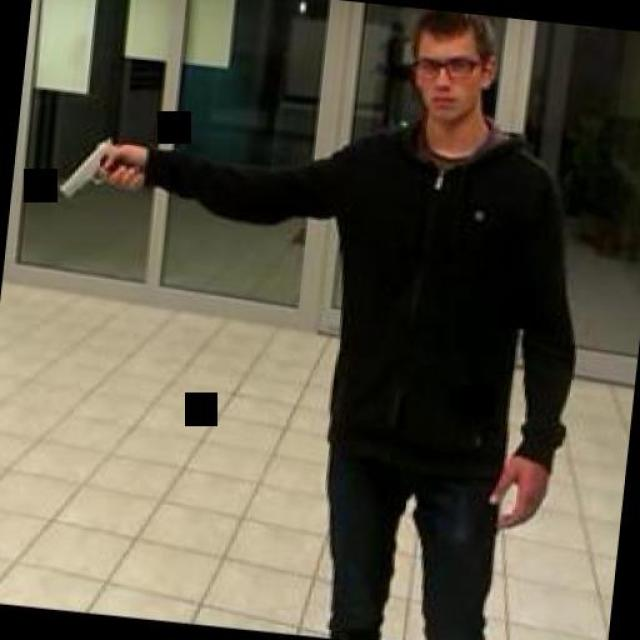gun: (55, 128, 141, 202)
